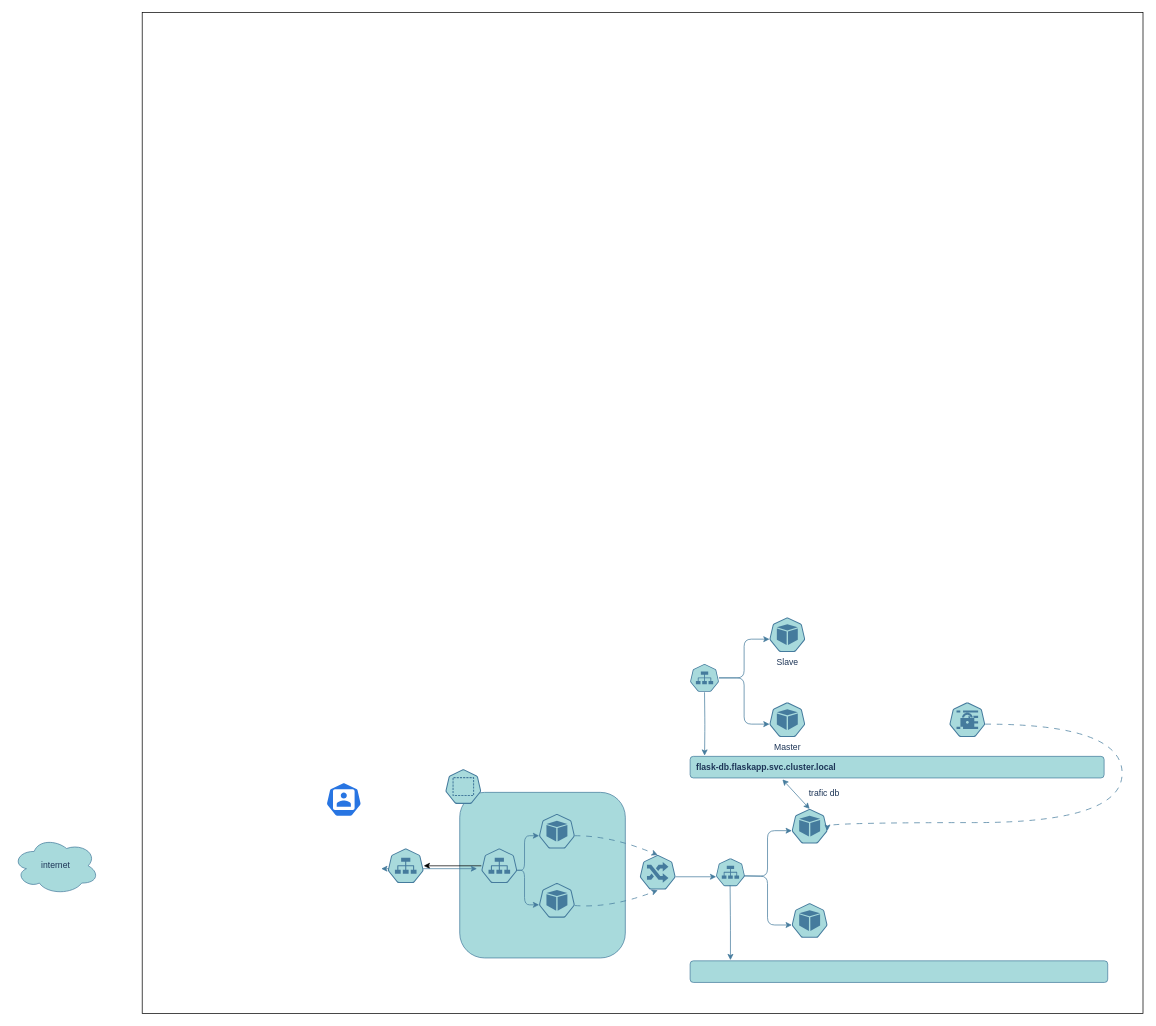
The diagram is 1156 pixels wide and 1026 high, and some of its shapes have lost their labels. The box of each missing label's shape, as (x1, y1, x2, y2) in pixels:
db-secret: (949, 702, 985, 737)
flask-web.flaskapp.svc.cluster.local: (689, 960, 1108, 982)
